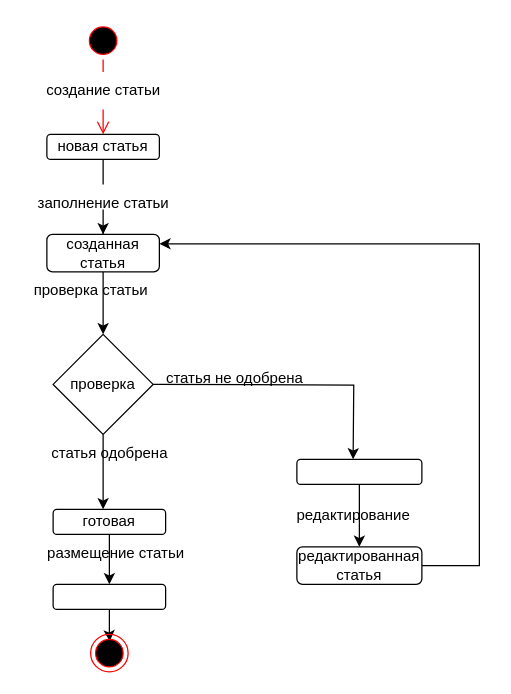
The diagram is 511 pixels wide and 694 high, and some of its shapes have lost their labels. Each missing label, with the box of its shape:
завершенная: (52, 583, 166, 609)
приостановлена: (296, 458, 422, 484)
